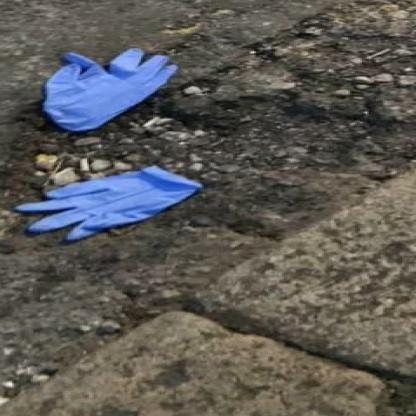with_gloves: (12, 168, 215, 247), (37, 33, 190, 134)
